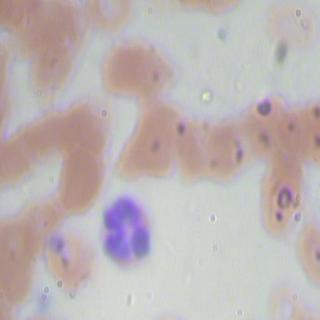RBC: (102, 36, 177, 102), (258, 158, 305, 242), (58, 148, 107, 210)
WBC: (94, 192, 157, 272)
